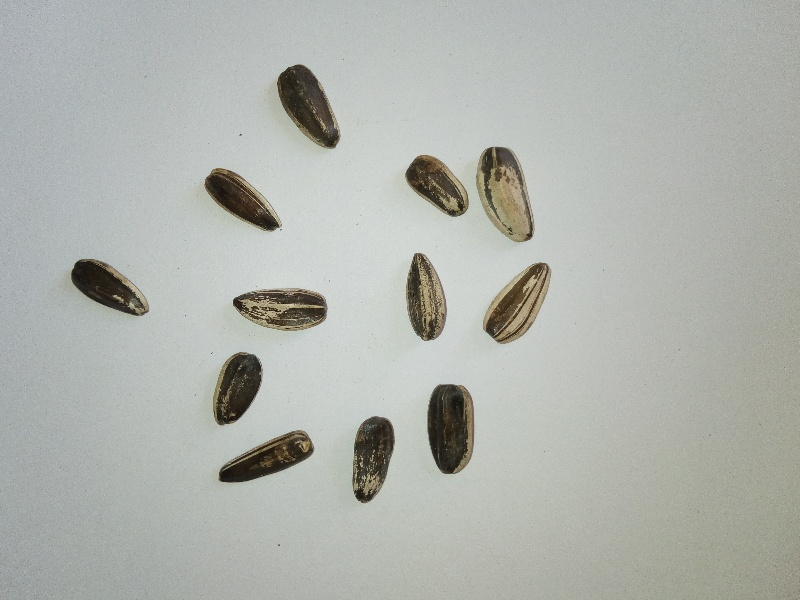girasol: (196, 161, 287, 240), (267, 53, 341, 150), (474, 137, 537, 249), (481, 258, 558, 349), (65, 250, 154, 325), (419, 378, 482, 483), (213, 429, 319, 491), (228, 283, 334, 339), (401, 148, 476, 222), (344, 409, 396, 509), (400, 248, 451, 349), (209, 344, 266, 431)
